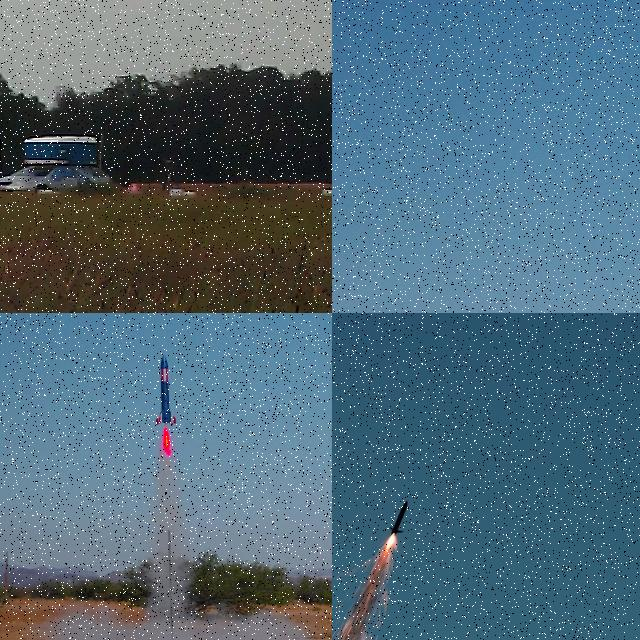Rocket: (156, 354, 176, 426), (389, 500, 408, 535)
